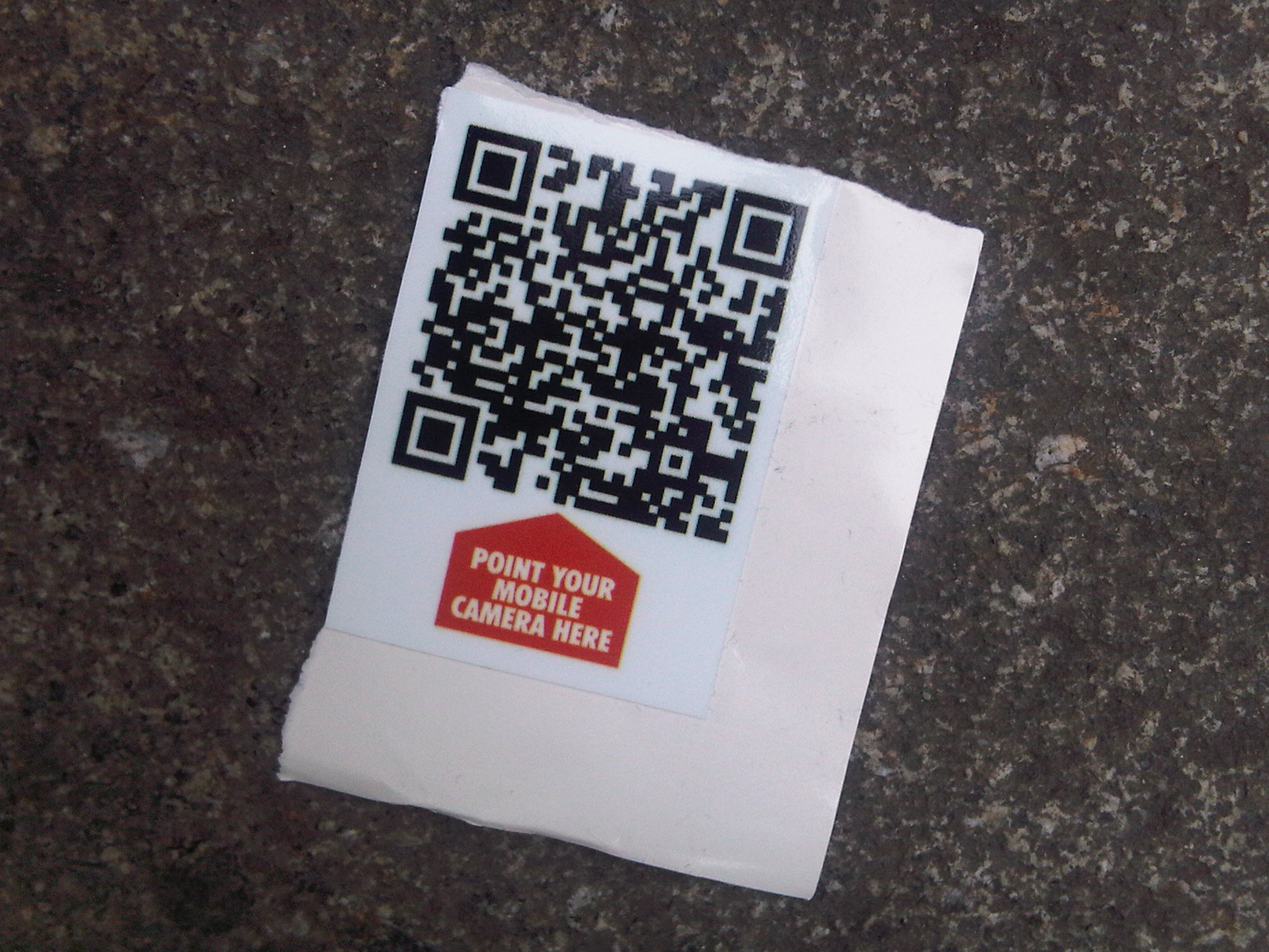QR-CODE: (391, 124, 807, 544)
